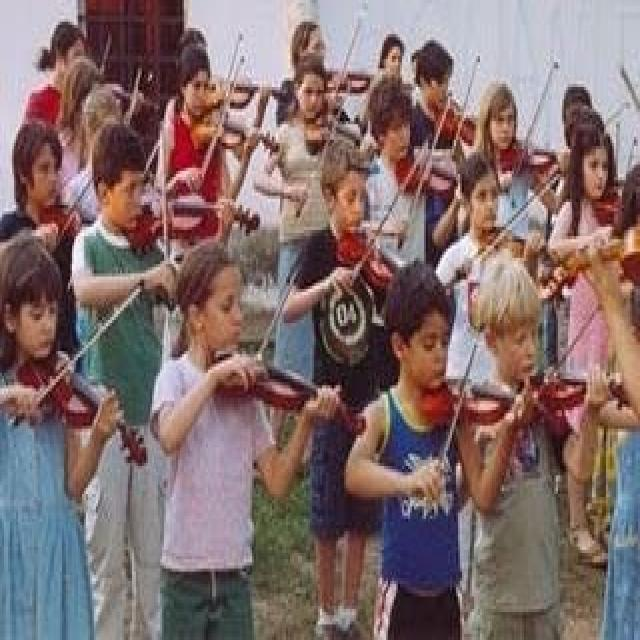violin: (14, 344, 153, 467), (209, 347, 369, 438), (127, 191, 266, 249), (419, 372, 543, 425), (514, 372, 633, 416), (190, 118, 280, 158), (340, 230, 401, 286), (394, 154, 462, 198), (198, 75, 286, 104), (498, 140, 564, 176), (434, 104, 479, 148), (40, 202, 86, 236), (326, 68, 374, 98), (593, 195, 630, 227)
